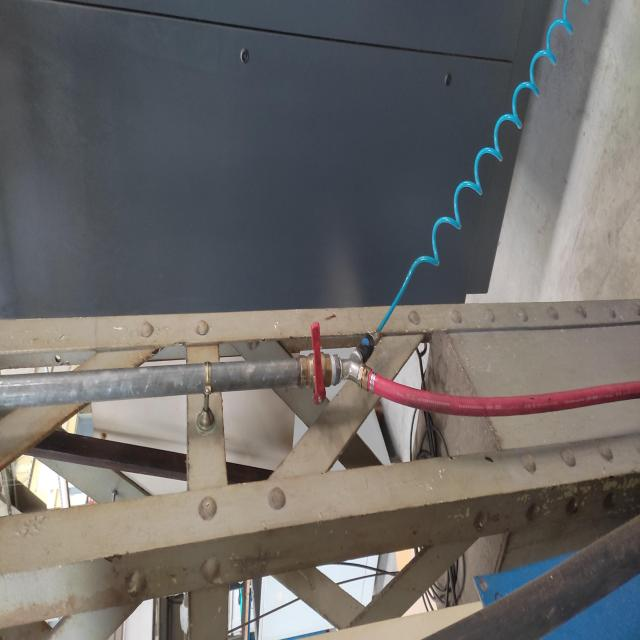closed_valve: (299, 321, 333, 406)
